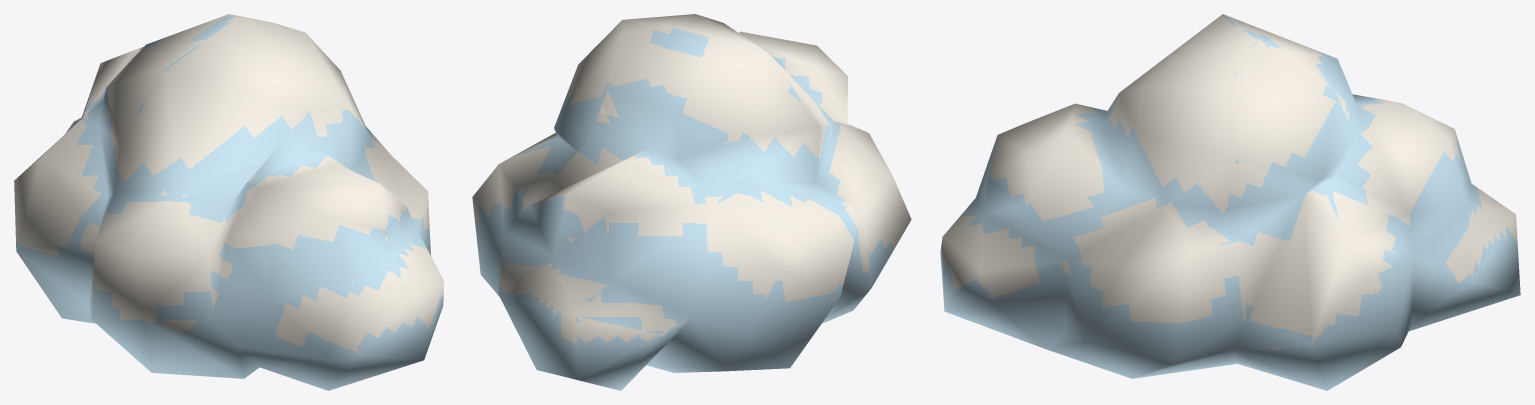
The model's file is cloud.glb.
3 views of the same model, side by side, from view 1: azimuth 30°, elevation 25°; view 2: azimuth 150°, elevation 25°; view 3: azimuth 270°, elevation 25° (orthographic). The views are drawn at different scales.
Visible parts, largest first — view 1: tripo_node_9c75aab6-488d-406c-8ded-8ac67200a17d; view 2: tripo_node_9c75aab6-488d-406c-8ded-8ac67200a17d; view 3: tripo_node_9c75aab6-488d-406c-8ded-8ac67200a17d.
Boxes of the visible parts, x1=… form: tripo_node_9c75aab6-488d-406c-8ded-8ac67200a17d: x1=14, y1=14, x2=443, y2=390; tripo_node_9c75aab6-488d-406c-8ded-8ac67200a17d: x1=472, y1=14, x2=911, y2=390; tripo_node_9c75aab6-488d-406c-8ded-8ac67200a17d: x1=940, y1=14, x2=1520, y2=390.
Bounding box in the file's own units: 0.7148 × 0.558 × 0.9753.
1 material, 1 textured.
